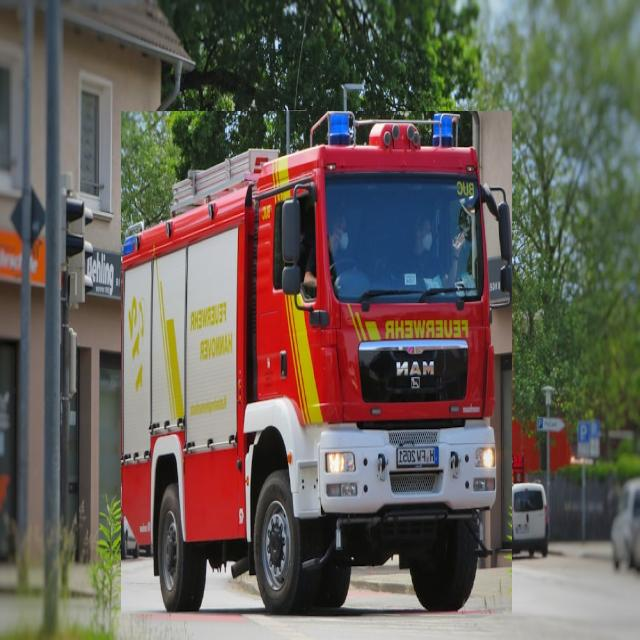emergency: (121, 111, 512, 614)
